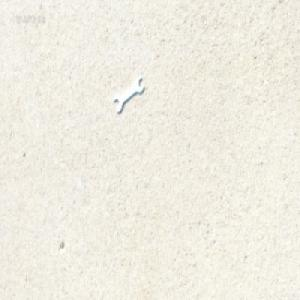Wrench: (113, 77, 143, 112)
